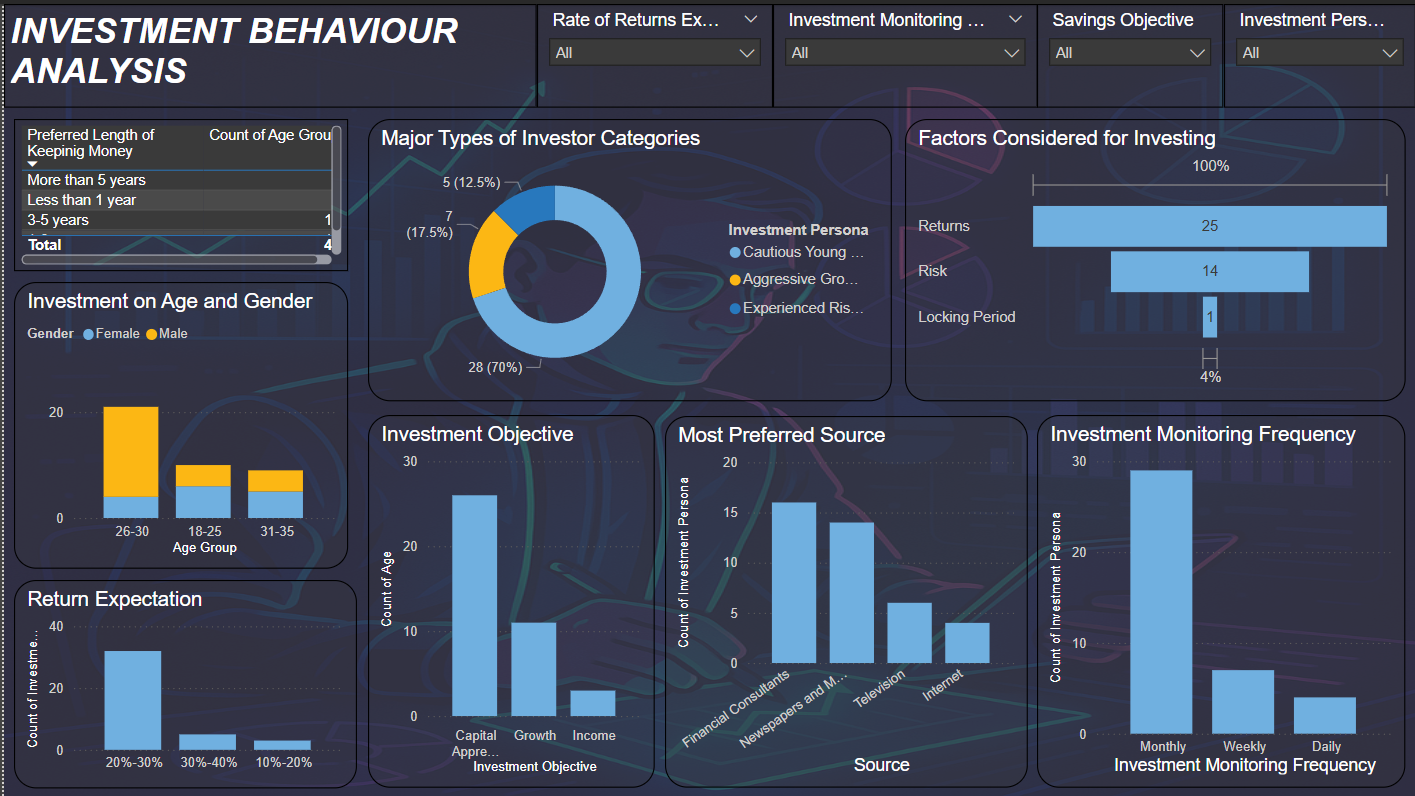

The dashboard page shown, as its layout file describes it:
{"tool":"powerbi","page":{"name":"Page 1","canvas":[1280,720],"ordinal":0},"visuals":[{"type":"donutChart","title":"Major Types of Investor Categories","fields":{"Category":["Final Data.Investment Persona"],"Y":["CountNonNull(Final Data.Investment Persona)"]},"box":[330,104,475,256],"z":0},{"type":"columnChart","title":"Investment on Age and Gender","fields":{"Category":["Final Data.Age Group"],"Series":["Final Data.Gender"],"Y":["CountNonNull(Final Data.Most Invested Avenue)"]},"box":[9,252,303,260],"z":1000},{"type":"tableEx","title":"Preferred Length of Keeping Money","fields":{"Values":["Final Data.Preferred Length of Keepinig Money","CountNonNull(Final Data.Age Group)"]},"box":[9,104,303,138],"z":2000},{"type":"funnel","title":"Factors Considered for Investing","fields":{"Y":["CountNonNull(Final Data.Factors Considered for Investing)"],"Category":["Final Data.Factors Considered for Investing"]},"box":[817,104,454,256],"z":3000},{"type":"clusteredColumnChart","title":"Investment Objective","fields":{"Category":["Final Data.Investment Objective"],"Y":["CountNonNull(Final Data.Age)"]},"box":[330,373,260,338],"z":4000},{"type":"clusteredColumnChart","title":"Return Expectation","fields":{"Category":["Final Data.Rate of Returns Expectation"],"Y":["CountNonNull(Final Data.Investment Persona)"]},"box":[9,522,311,189],"z":5000},{"type":"columnChart","title":"Investment Monitoring Frequency","fields":{"Category":["Final Data.Investment Monitoring Frequency"],"Y":["CountNonNull(Final Data.Investment Persona)"]},"box":[937,373,334,338],"z":6000},{"type":"slicer","fields":{"Values":["Final Data.Investment Monitoring Frequency"]},"box":[697,0,240,94],"z":7000},{"type":"clusteredColumnChart","title":"Most Preferred Source","fields":{"Category":["Final Data.Source"],"Y":["CountNonNull(Final Data.Investment Persona)"]},"box":[599,374,329,337],"z":8000},{"type":"slicer","fields":{"Values":["Final Data.Investment Persona"]},"box":[1106,0,174,94],"z":9000},{"type":"slicer","fields":{"Values":["Final Data.Rate of Returns Expectation"]},"box":[483,0,214,94],"z":11000},{"type":"slicer","fields":{"Values":["Final Data.Savings Objective"]},"box":[937,0,169,94],"z":12000},{"type":"textbox","box":[0,0,483,94],"z":13000}]}

Visuals, with their boxes in screenshot pixels (x1, y1, x2, y2), scaled from the page's 1280x720 canvas onto the 1415x796 screenshot:
"Major Types of Investor Categories" donutChart: bbox(365, 115, 890, 398)
"Investment on Age and Gender" columnChart: bbox(10, 279, 345, 566)
"Preferred Length of Keeping Money" tableEx: bbox(10, 115, 345, 268)
"Factors Considered for Investing" funnel: bbox(903, 115, 1405, 398)
"Investment Objective" clusteredColumnChart: bbox(365, 412, 652, 786)
"Return Expectation" clusteredColumnChart: bbox(10, 577, 354, 786)
"Investment Monitoring Frequency" columnChart: bbox(1036, 412, 1405, 786)
slicer - Final Data.Investment Monitoring Frequency: bbox(771, 0, 1036, 104)
"Most Preferred Source" clusteredColumnChart: bbox(662, 413, 1026, 786)
slicer - Final Data.Investment Persona: bbox(1223, 0, 1414, 104)
slicer - Final Data.Rate of Returns Expectation: bbox(534, 0, 771, 104)
slicer - Final Data.Savings Objective: bbox(1036, 0, 1223, 104)
textbox: bbox(0, 0, 534, 104)
